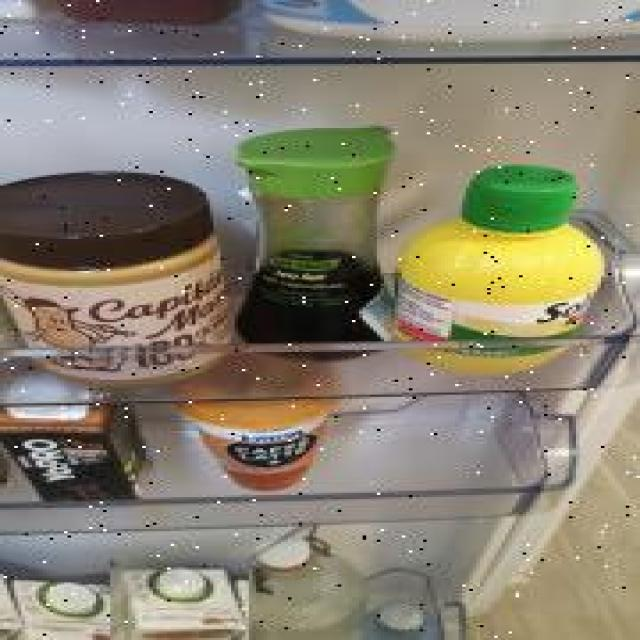milk: (110, 557, 249, 640), (0, 574, 135, 640)
